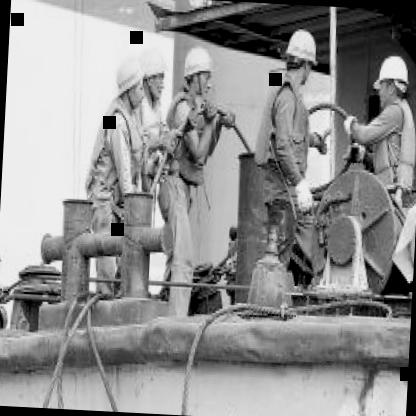helmet: (280, 21, 322, 94), (110, 46, 152, 116), (135, 36, 170, 115), (373, 48, 413, 112), (180, 45, 215, 104)
